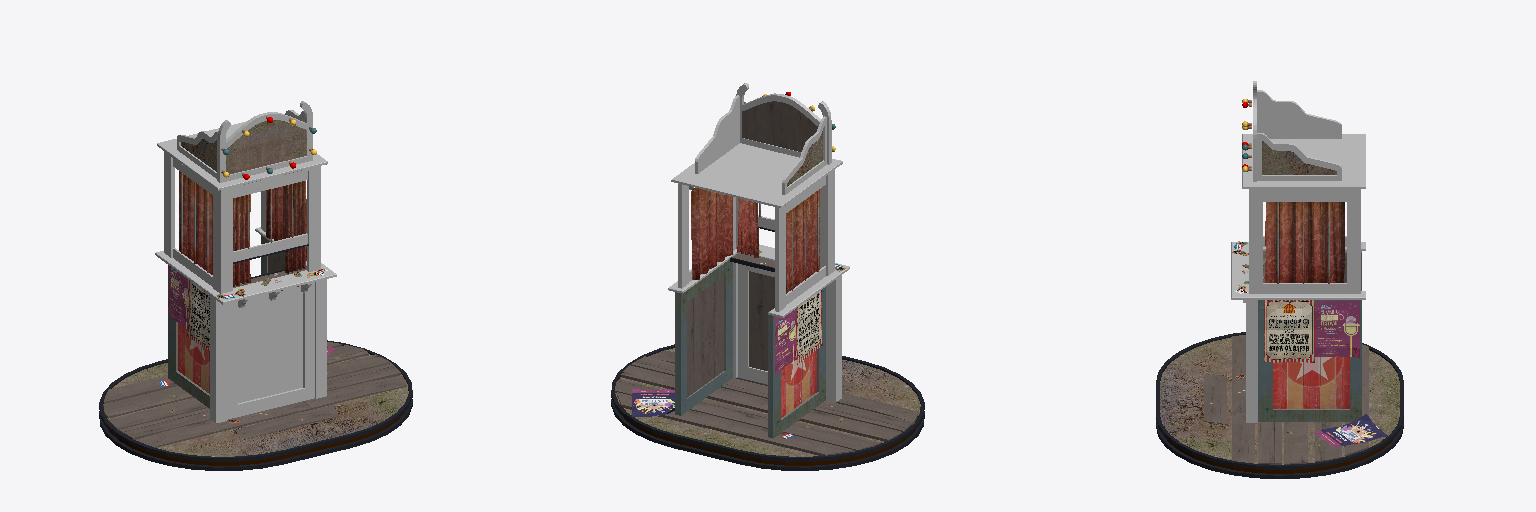
3 renders of one model, left to right at view 1: azimuth 30°, elevation 25°; view 2: azimuth 150°, elevation 25°; view 3: azimuth 270°, elevation 25°, orthographic.
Visible parts, largest first — view 1: pCube1_Front_Wood_Panel_0, pCylinder11_Ground_Base_0, pCube12_Front_Wood_Panel_0, pCylinder11_Dark_Gray_0, pCube33_Wood_Stuff1_0, pCube26_Main_Sign_and_Ticket_0, pCube31_Side_Wood_Panel_0, pTorus19_Drapings_0, pCube32_Front_Wood_Panel_0, pCube29_Wood_Stuff1_0, pCube26_Front_Wood_Panel_0, pCube3_Front_Wood_Panel_0 (+16 smaller); view 2: pCube20_Front_Wood_Panel_0, pCylinder11_Ground_Base_0, pCylinder11_Dark_Gray_0, pCube31_Side_Wood_Panel_0, pCube12_Front_Wood_Panel_0, pCube30_Wood_Stuff1_0, pCube30_Side_Wood_Panel_0, pTorus20_Drapings_0, pCube34_Wood_Stuff1_0, pCube26_Wood_Stuff1_0, pCube35_Wood_Stuff1_0, pCube36_Wood_Stuff1_0 (+17 smaller); view 3: pCylinder11_Ground_Base_0, pCube30_Side_Wood_Panel_0, pTorus20_Drapings_0, pCylinder11_Dark_Gray_0, pCube20_Front_Wood_Panel_0, pCube12_Front_Wood_Panel_0, pPlane7_Full_Details_0, pCube67_Front_Wood_Panel_0, pPlane11_Full_Details_0, pCube33_Wood_Stuff1_0, pCube3_Front_Wood_Panel_0, pCube2_Front_Wood_Panel_0 (+11 smaller).
Part boxes in pixels (left/top/right/bottom): pCube1_Front_Wood_Panel_0: left=227, top=282, right=314, bottom=419; pCylinder11_Ground_Base_0: left=107, top=354, right=408, bottom=456; pCube12_Front_Wood_Panel_0: left=164, top=151, right=320, bottom=293; pCylinder11_Dark_Gray_0: left=99, top=340, right=412, bottom=470; pCube33_Wood_Stuff1_0: left=135, top=375, right=406, bottom=447; pCube26_Main_Sign_and_Ticket_0: left=226, top=120, right=306, bottom=174; pCube31_Side_Wood_Panel_0: left=168, top=276, right=209, bottom=408; pTorus19_Drapings_0: left=179, top=171, right=212, bottom=274; pCube32_Front_Wood_Panel_0: left=210, top=296, right=226, bottom=422; pCube29_Wood_Stuff1_0: left=119, top=363, right=400, bottom=439; pCube26_Front_Wood_Panel_0: left=217, top=101, right=312, bottom=182; pCube3_Front_Wood_Panel_0: left=155, top=227, right=336, bottom=304; pCube20_Front_Wood_Panel_0: left=671, top=143, right=842, bottom=207; pCylinder11_Ground_Base_0: left=615, top=348, right=920, bottom=456; pCylinder11_Dark_Gray_0: left=611, top=344, right=924, bottom=470; pCube31_Side_Wood_Panel_0: left=768, top=287, right=825, bottom=438; pCube12_Front_Wood_Panel_0: left=678, top=170, right=834, bottom=311; pCube30_Wood_Stuff1_0: left=687, top=276, right=723, bottom=397; pCube30_Side_Wood_Panel_0: left=675, top=259, right=732, bottom=415; pTorus20_Drapings_0: left=691, top=188, right=732, bottom=279; pCube34_Wood_Stuff1_0: left=621, top=365, right=901, bottom=441; pCube26_Wood_Stuff1_0: left=742, top=101, right=817, bottom=151; pCube35_Wood_Stuff1_0: left=615, top=379, right=880, bottom=450; pCube36_Wood_Stuff1_0: left=617, top=392, right=853, bottom=455; pCylinder11_Ground_Base_0: left=1160, top=337, right=1399, bottom=464; pCube30_Side_Wood_Panel_0: left=1258, top=300, right=1361, bottom=421; pTorus20_Drapings_0: left=1265, top=202, right=1344, bottom=282; pCylinder11_Dark_Gray_0: left=1156, top=332, right=1403, bottom=478; pCube20_Front_Wood_Panel_0: left=1242, top=134, right=1365, bottom=188; pCube12_Front_Wood_Panel_0: left=1249, top=189, right=1360, bottom=293; pPlane7_Full_Details_0: left=1264, top=300, right=1314, bottom=362; pCube67_Front_Wood_Panel_0: left=1257, top=90, right=1341, bottom=138; pPlane11_Full_Details_0: left=1315, top=301, right=1359, bottom=357; pCube33_Wood_Stuff1_0: left=1232, top=335, right=1254, bottom=463; pCube3_Front_Wood_Panel_0: left=1231, top=242, right=1365, bottom=299; pCube2_Front_Wood_Panel_0: left=1246, top=300, right=1257, bottom=422.
Size of the model in its own units: 0.0823 by 0.0867 by 0.063.
Materials: 10 (6 with a texture image).